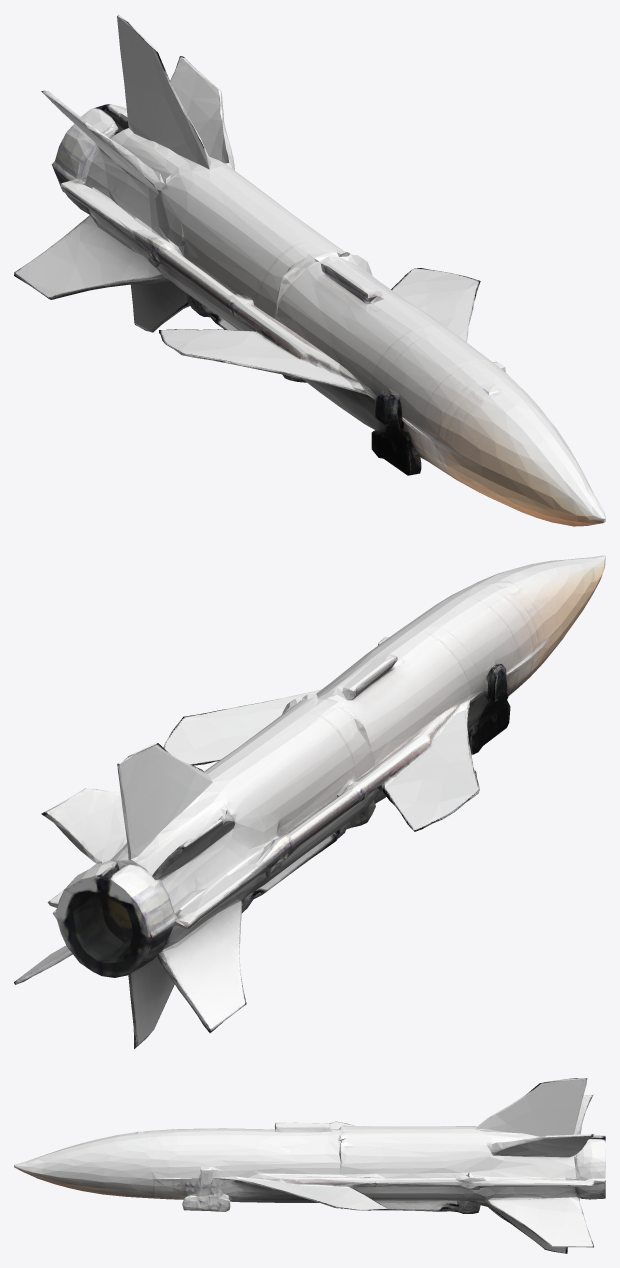
Rendered from 3d-white-rocket.glb.
3 renders of one model, top to bottom at view 1: azimuth 30°, elevation 25°; view 2: azimuth 150°, elevation 25°; view 3: azimuth 270°, elevation 25°, orthographic. The views are drawn at different scales.
Parts seen in each view (by area): view 1: world; view 2: world; view 3: world.
Part boxes in pixels (x1=…): world: x1=14, y1=14, x2=605, y2=526; world: x1=14, y1=555, x2=605, y2=1048; world: x1=14, y1=1078, x2=605, y2=1253.
Size of the model in its own units: 0.3417 by 0.3279 by 1.
Materials: 1 (1 with a texture image).
